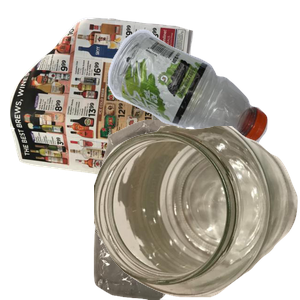glass: (94, 126, 300, 300)
paper: (10, 15, 196, 195)
plastic: (105, 27, 300, 162)
trash: (70, 120, 256, 300)
